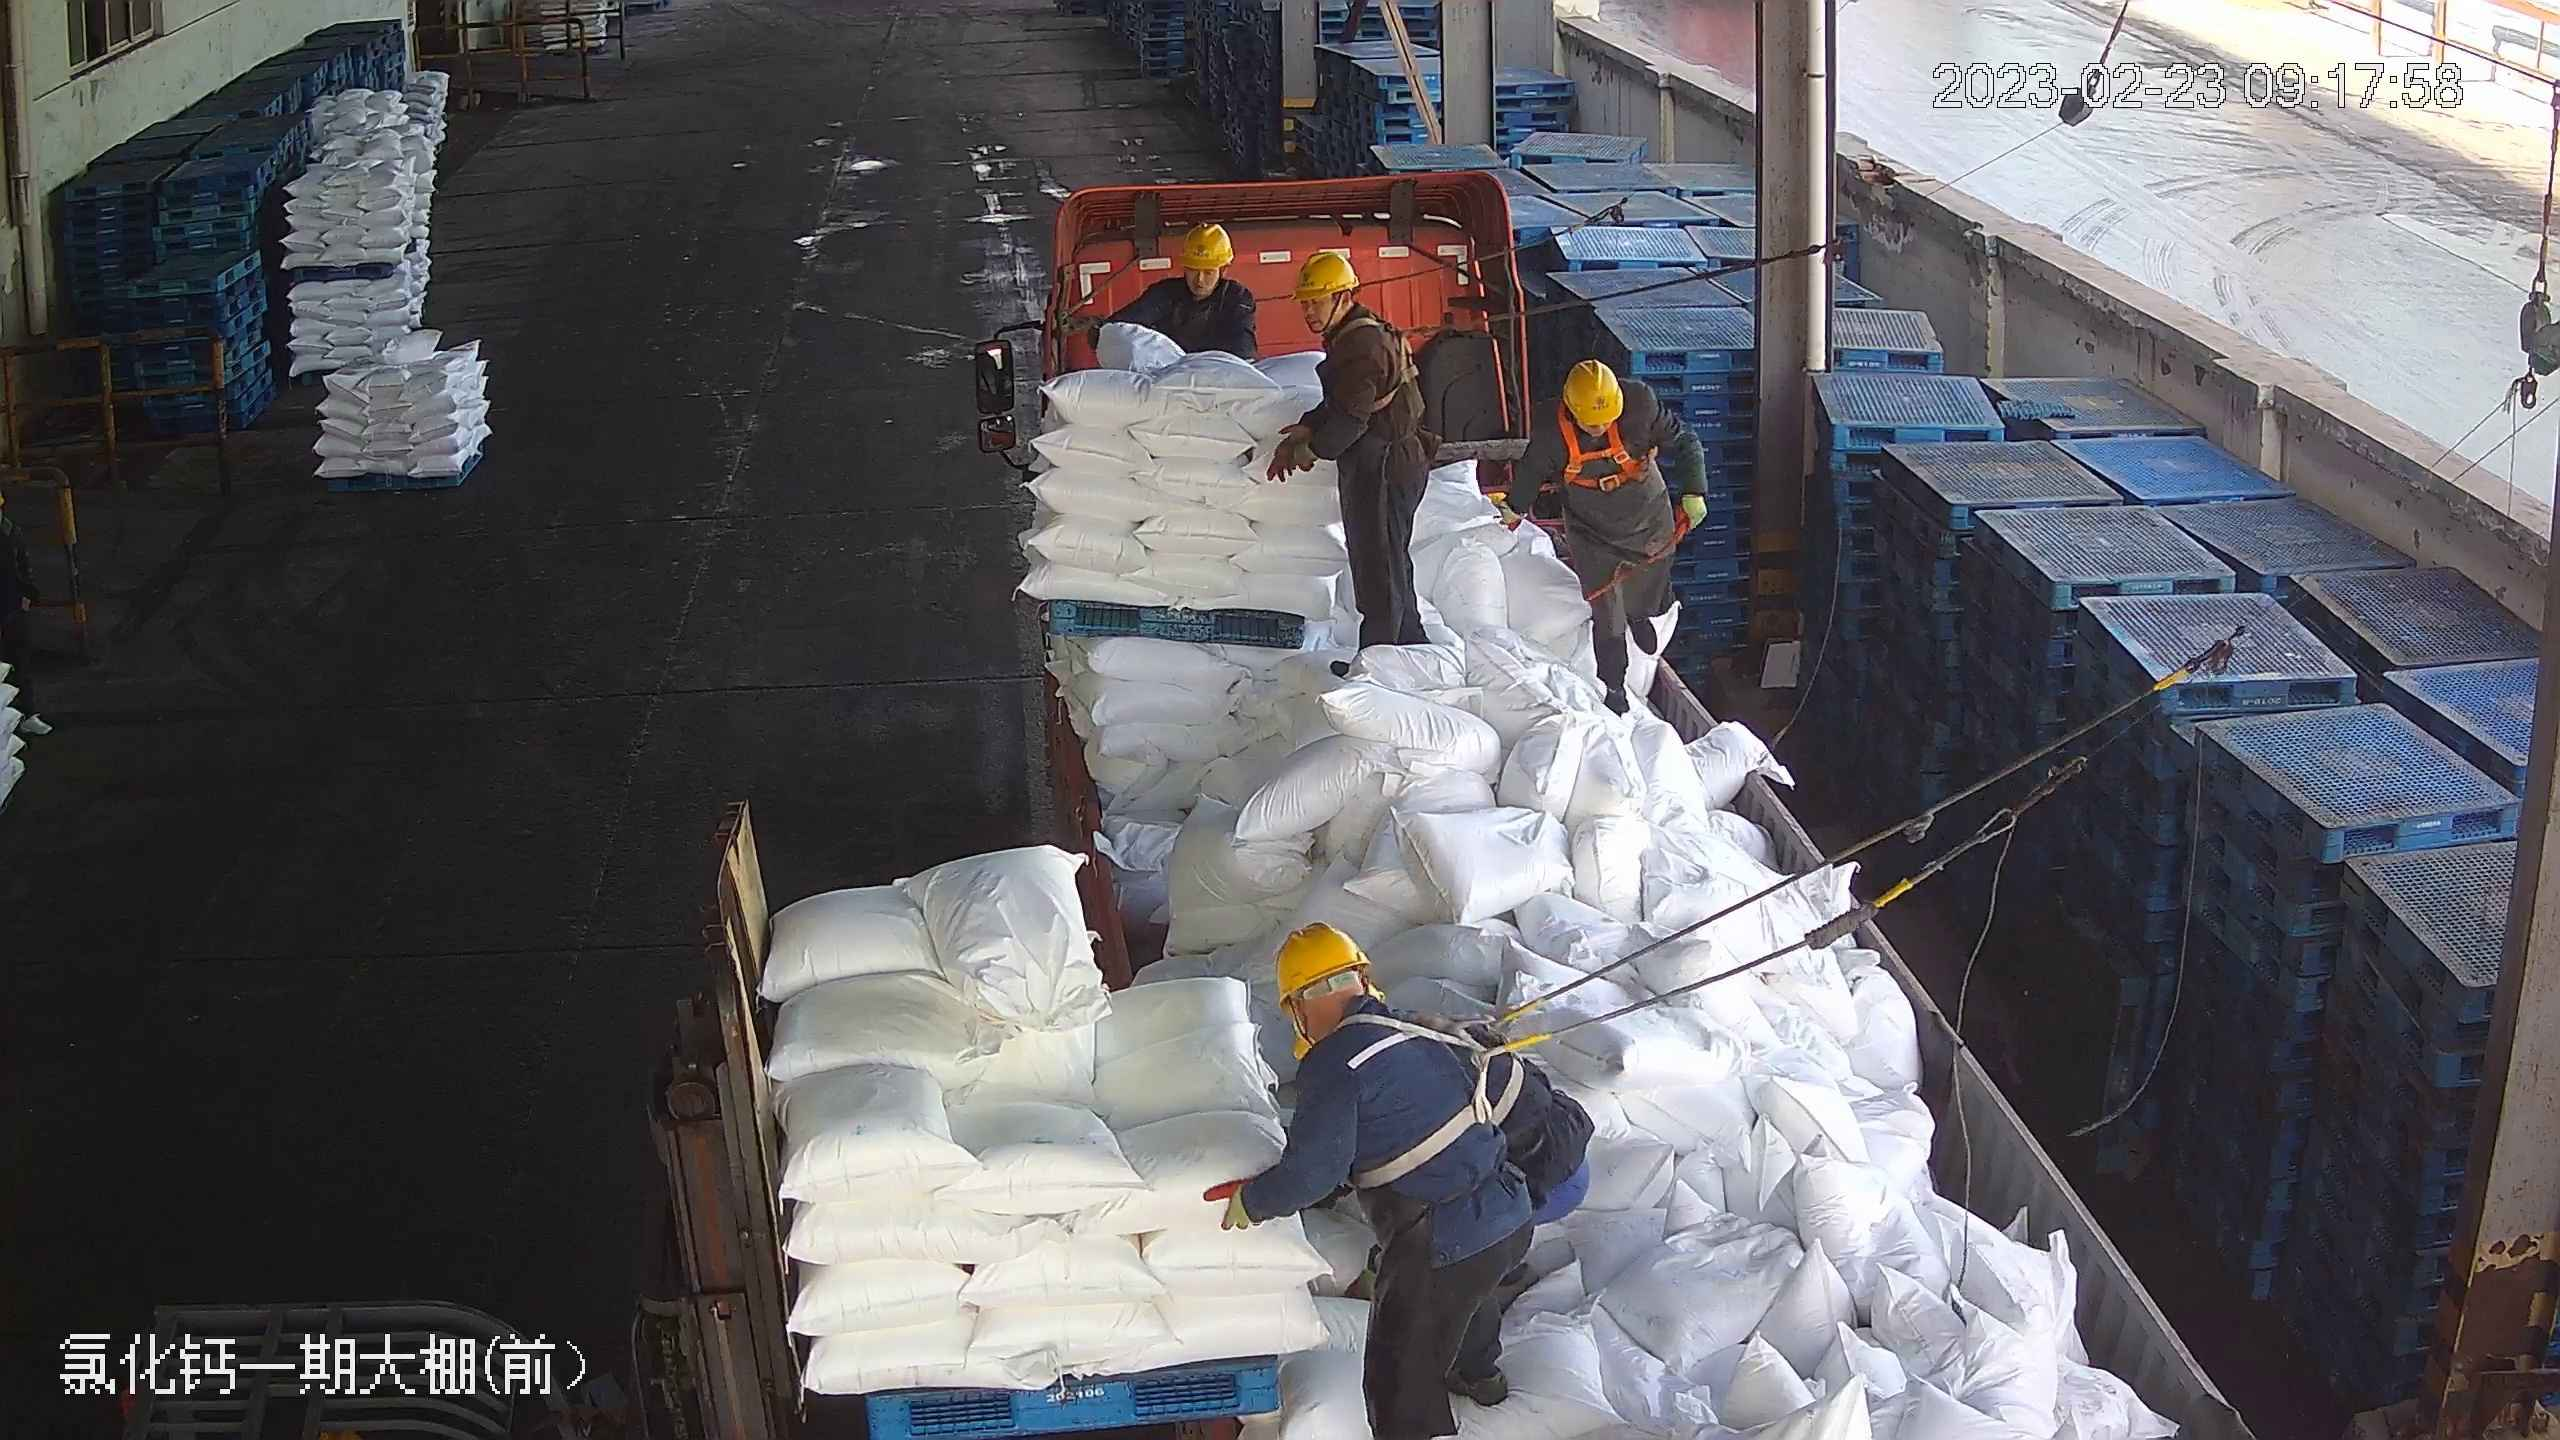belt: (1351, 1013, 1536, 1188), (1332, 316, 1434, 419), (1467, 996, 1540, 1119), (1545, 429, 1641, 498)
head: (1264, 926, 1454, 1107), (1283, 248, 1401, 381), (1536, 360, 1662, 462), (1150, 224, 1251, 322), (1175, 220, 1238, 273), (1, 472, 33, 558)
helmet: (1269, 920, 1368, 1000), (1558, 357, 1626, 425), (1287, 249, 1359, 301), (1176, 221, 1237, 271)
people: (1216, 932, 1552, 1440), (1490, 354, 1708, 727), (1270, 248, 1436, 677)
truck: (973, 168, 2261, 1437)
